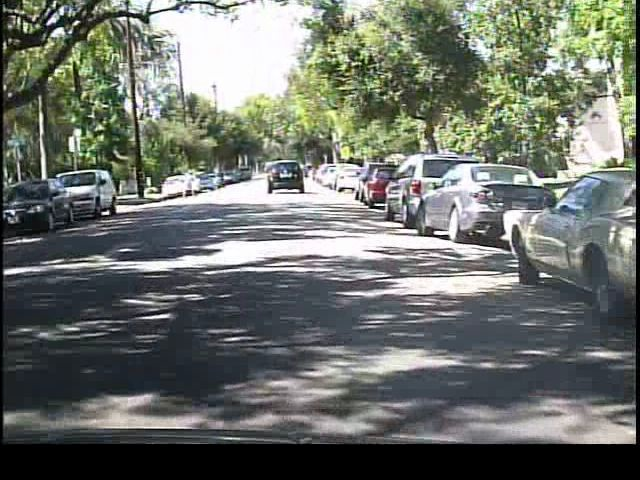person: (182, 165, 198, 201)
